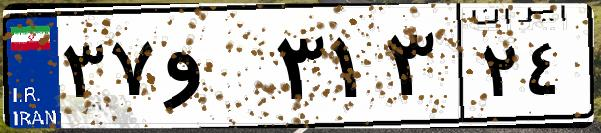1: (330, 28, 385, 110)
2: (475, 38, 525, 113)
3: (270, 28, 330, 110), (385, 28, 445, 110), (57, 26, 110, 100)
4: (525, 38, 570, 115)
7: (110, 28, 158, 98)
و: (158, 20, 270, 120)
